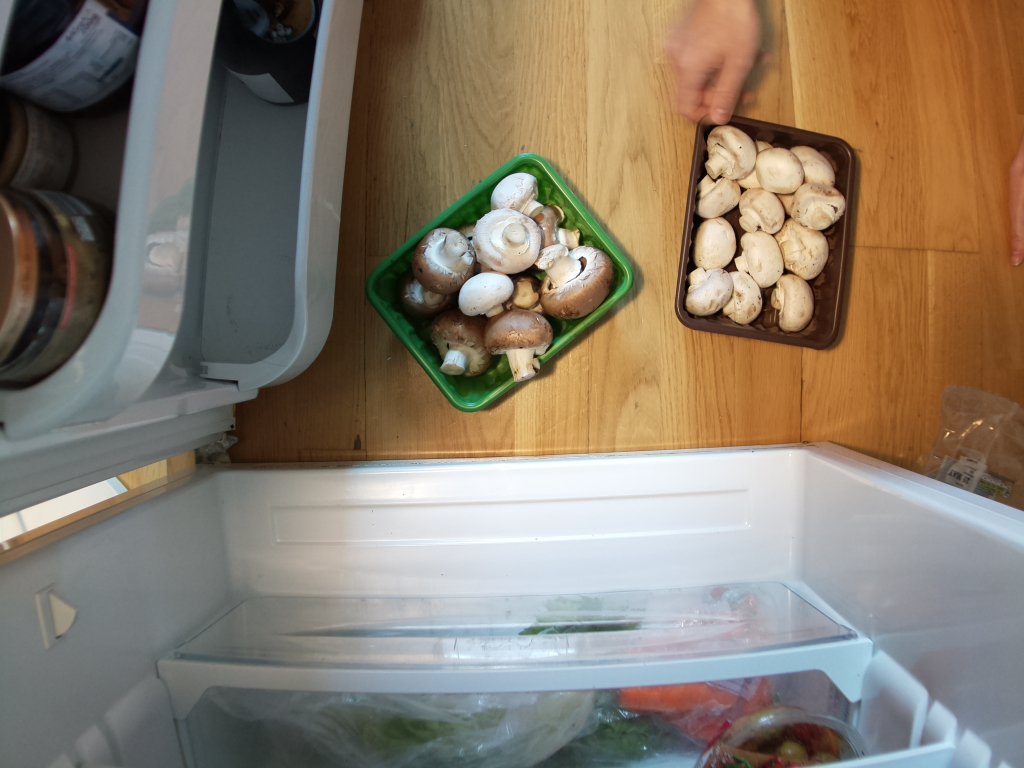mushrooms: (366, 151, 645, 421), (676, 111, 862, 358)
